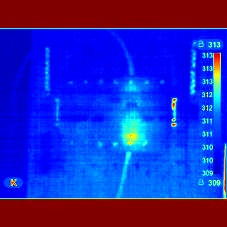High: (168, 95, 185, 135)
